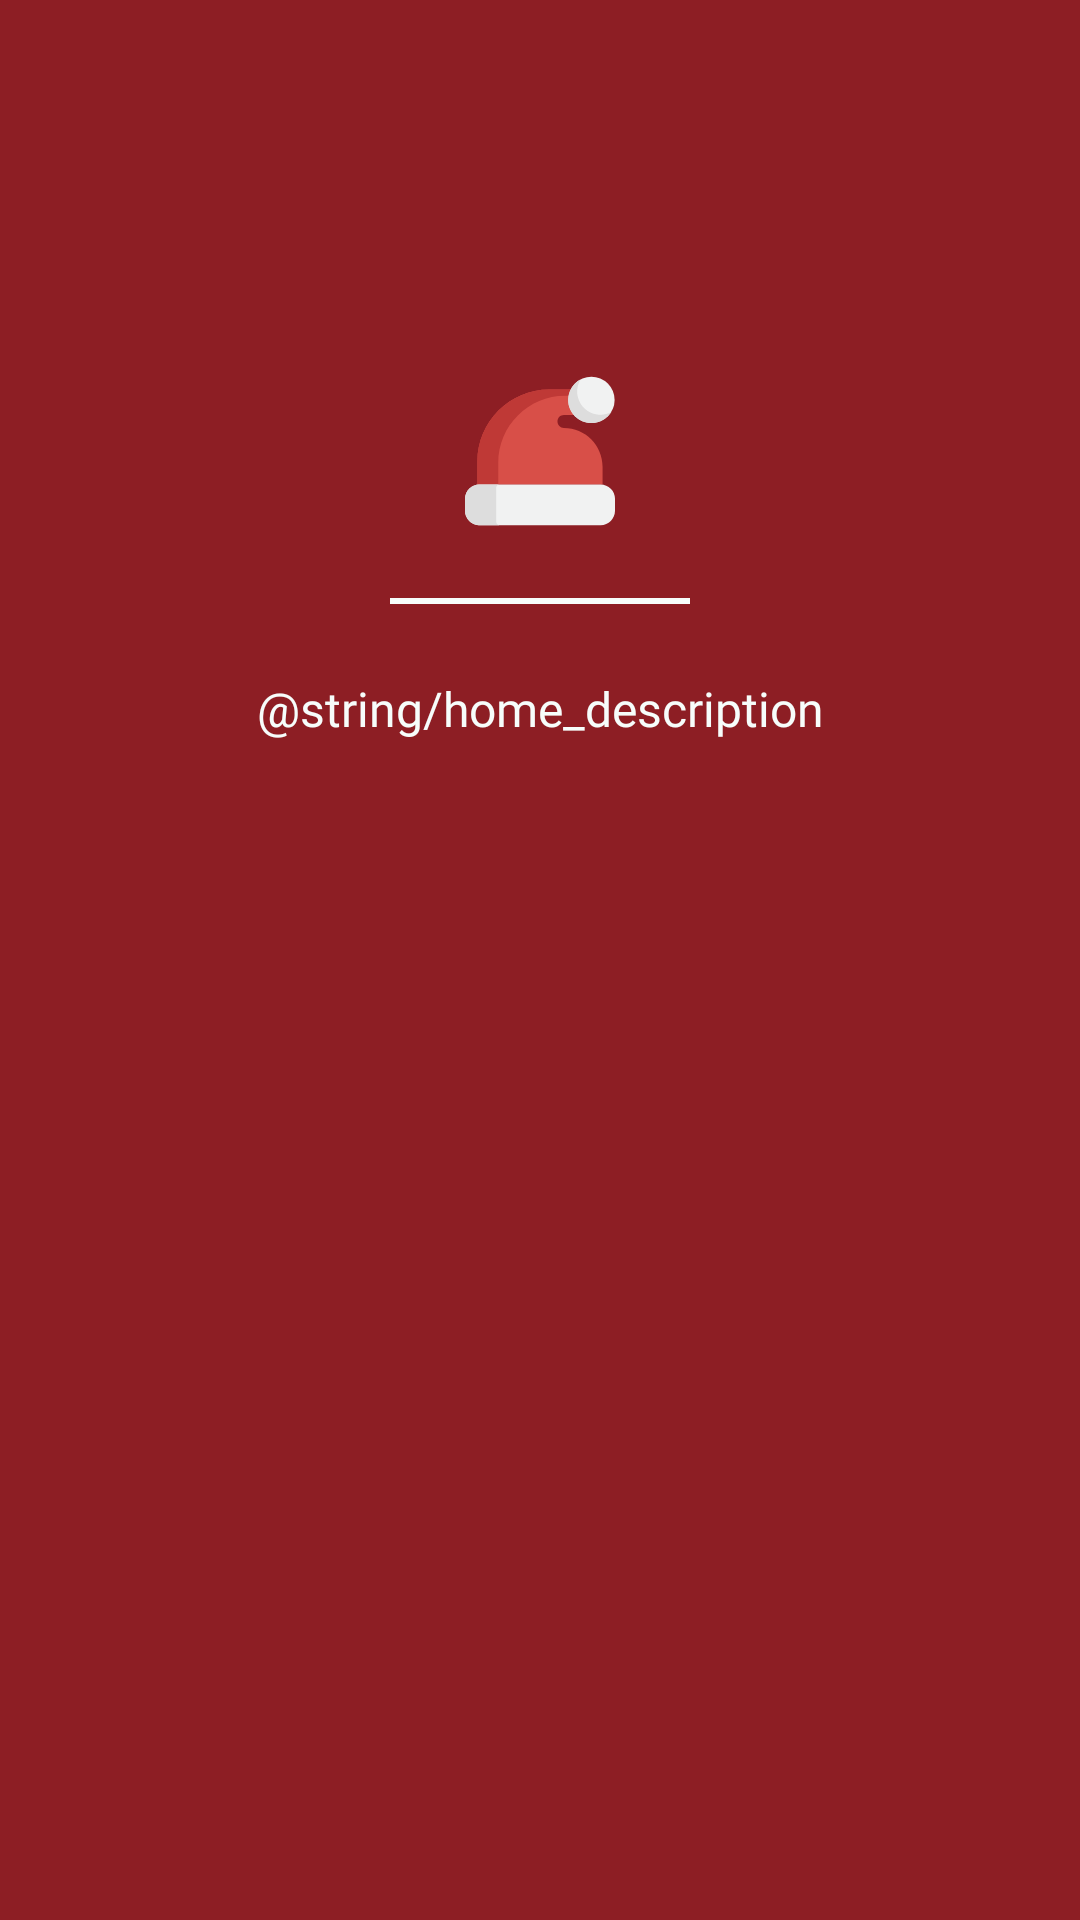

Where icons sit on this 1080w x 1920h app screen, as [left=x1, top=y1, right=x2, bottom=y2]:
christmas hat: [left=465, top=376, right=615, bottom=526]
